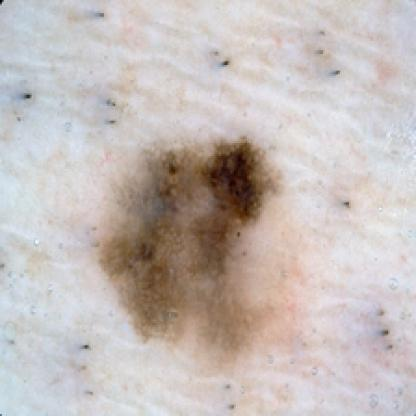malignant: (93, 138, 278, 334)
